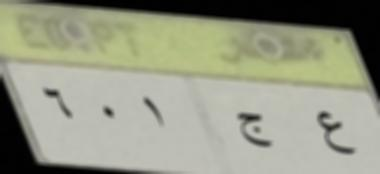0: (97, 100, 121, 130)
1: (140, 90, 172, 138)
6: (41, 84, 78, 130)
ain: (306, 100, 356, 162)
jeem: (232, 104, 275, 159)
